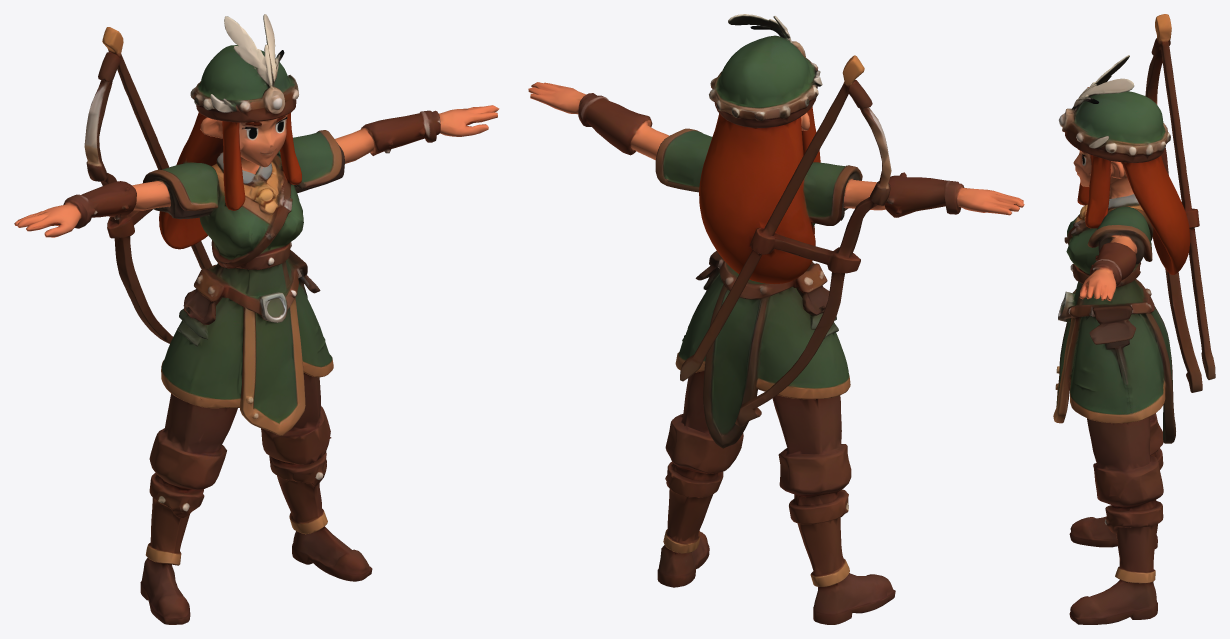
Rendered from bandit_axe.glb.
3 views of the same model, side by side, from view 1: azimuth 30°, elevation 25°; view 2: azimuth 150°, elevation 25°; view 3: azimuth 270°, elevation 25° (orthographic). The views are drawn at different scales.
Visible parts, largest first — view 1: tripo_node_08f6e5e5-d1e2-40da-9110-e93466af356f; view 2: tripo_node_08f6e5e5-d1e2-40da-9110-e93466af356f; view 3: tripo_node_08f6e5e5-d1e2-40da-9110-e93466af356f.
Part boxes in pixels (<box>): tripo_node_08f6e5e5-d1e2-40da-9110-e93466af356f: <box>14,14,499,624</box>; tripo_node_08f6e5e5-d1e2-40da-9110-e93466af356f: <box>528,14,1024,624</box>; tripo_node_08f6e5e5-d1e2-40da-9110-e93466af356f: <box>1053,14,1215,624</box>.
Size of the model in its own units: 0.8879 by 1 by 0.2839.
1 material, 1 textured.
